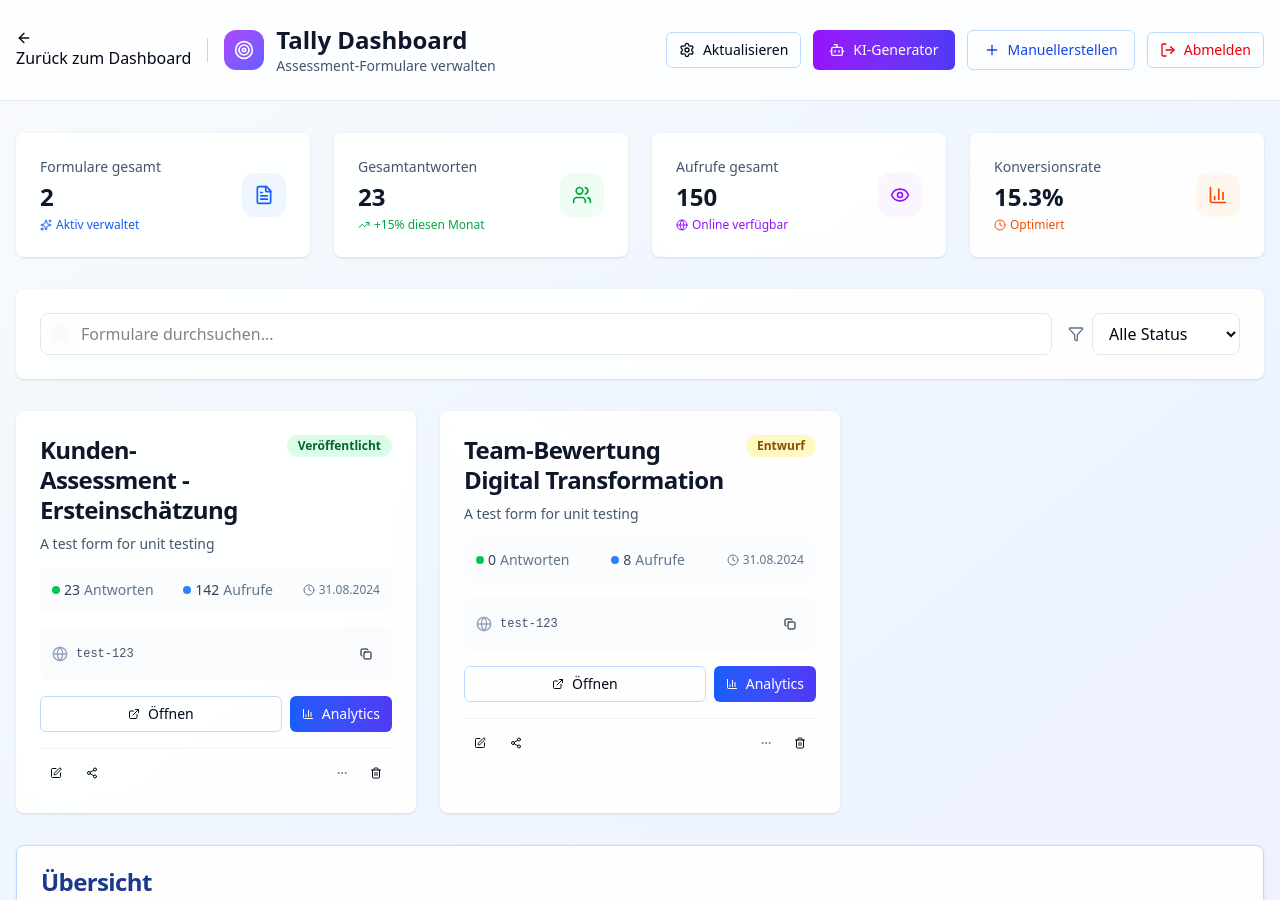
Scenario: TallyDashboard › filters forms by status
Check: the heading "Team-Bewertung Digital Transformation" is shown, box [464,435,730,495]
Step 1. Select "Veröffentlicht" in the dropdown showing "alle status" → (1166, 334), box [1092,313,1240,355]
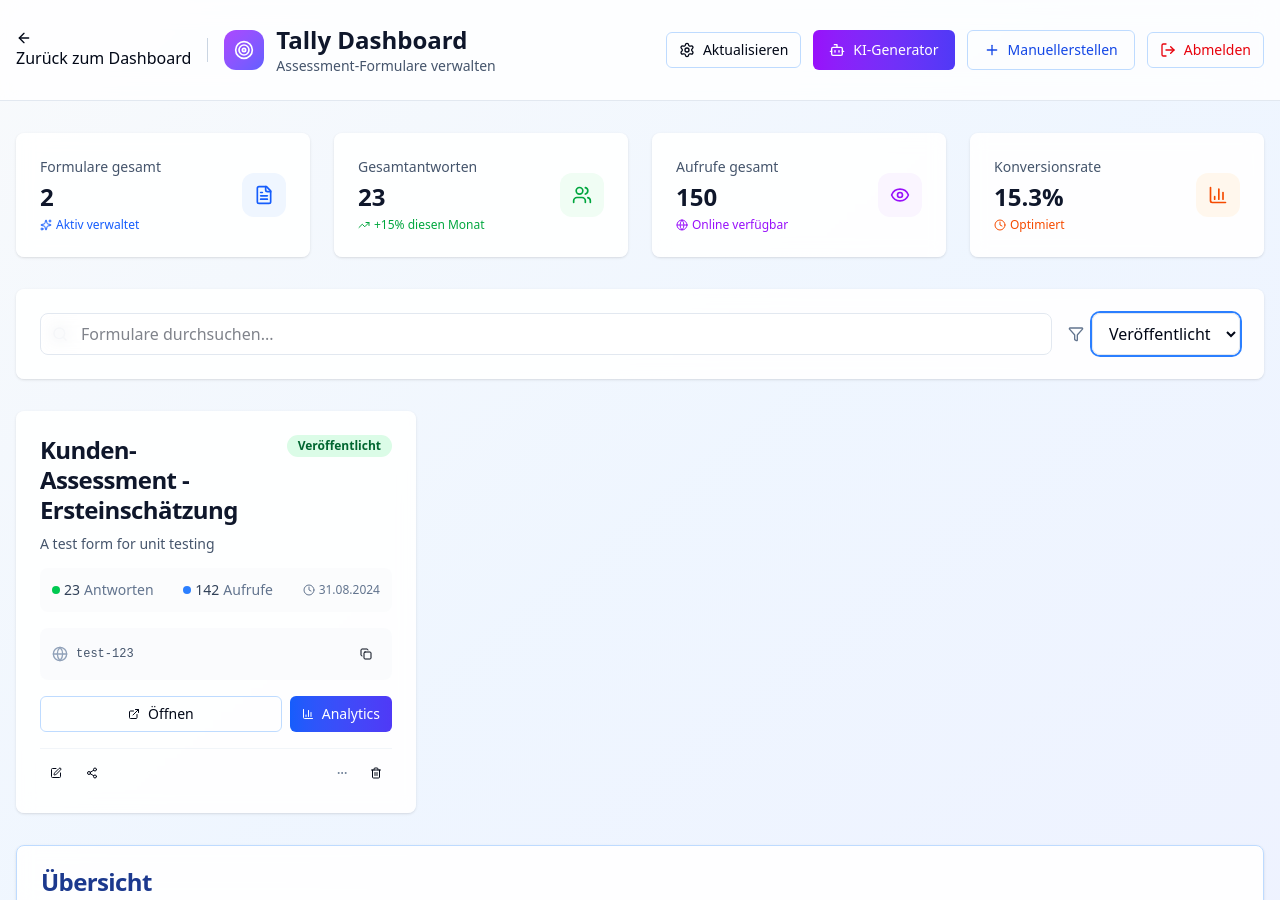
Check: the heading "Kunden-Assessment - Ersteinschätzung" is shown, box [40,435,271,525]
Check: the heading "Team-Bewertung Digital Transformation" is gone
